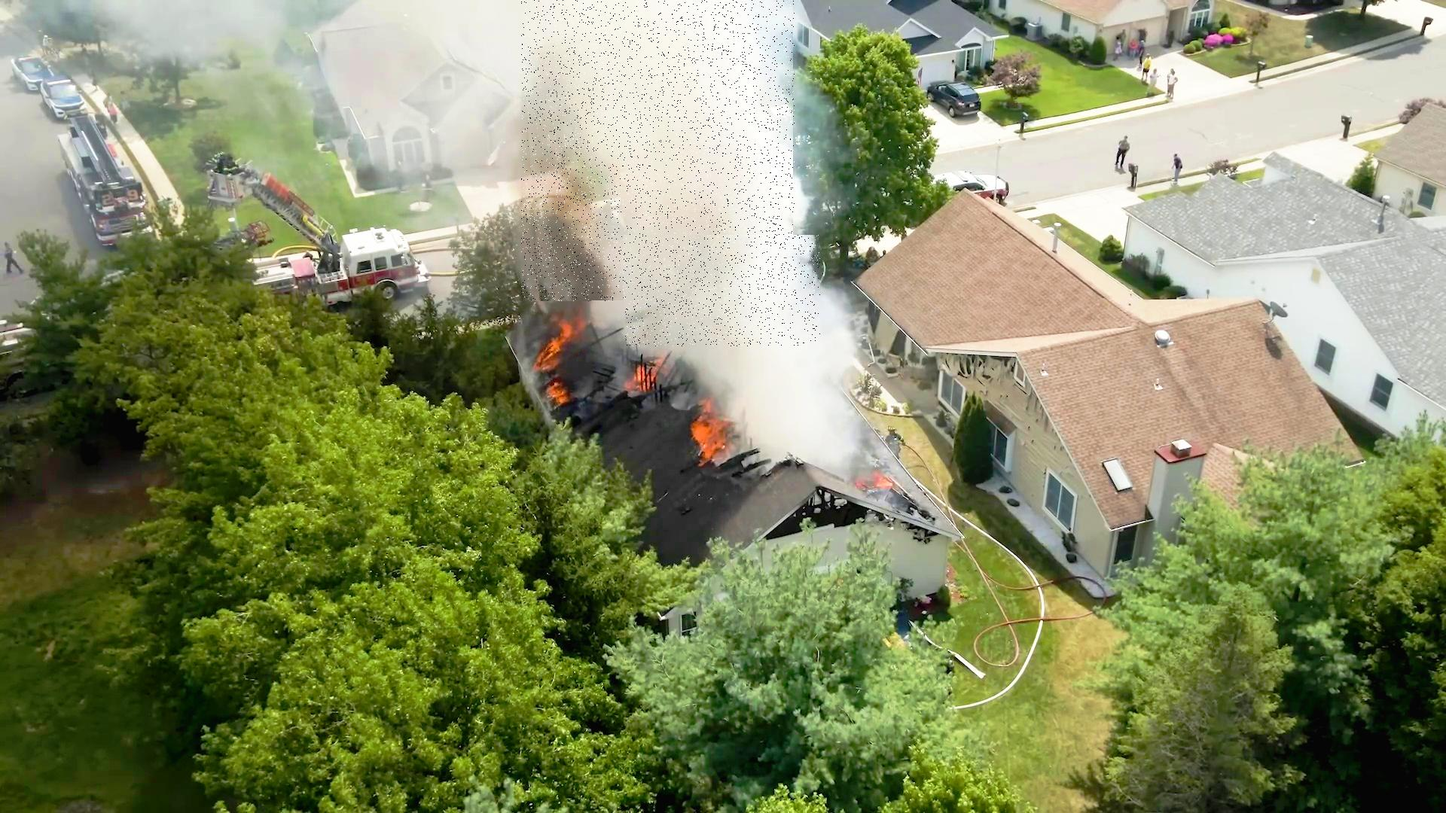smoke: (522, 0, 795, 301), (625, 235, 820, 347)
